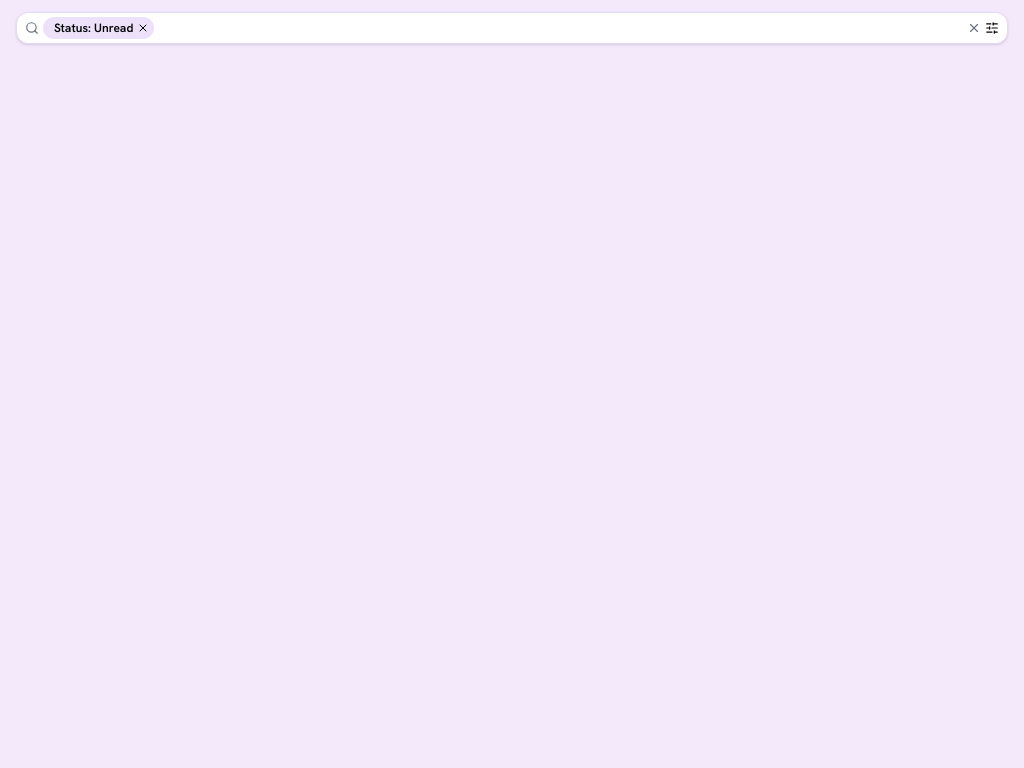
Test case: InboxToolbar — filter › marks the filter button as active when filtering, and opens its panel
Click the button named "Filter inbox". click: {"x": 992, "y": 28}
box: [985, 21, 999, 35]
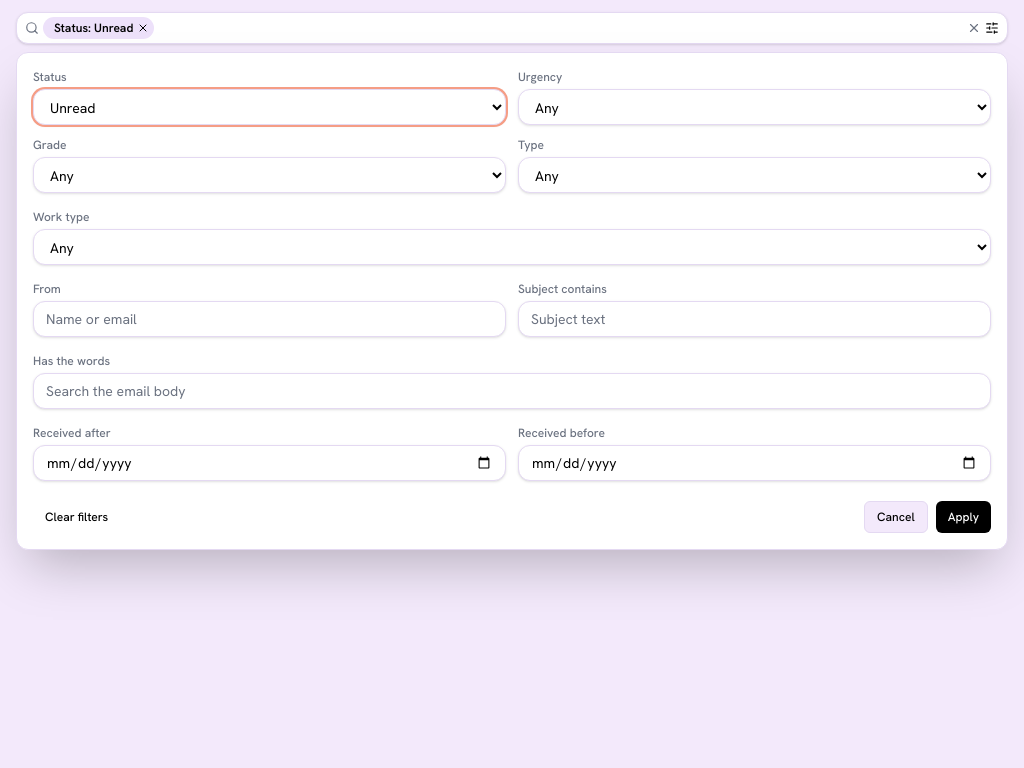
Expected: the field with placeholder "Name or email" is shown, [33, 301, 506, 337]
